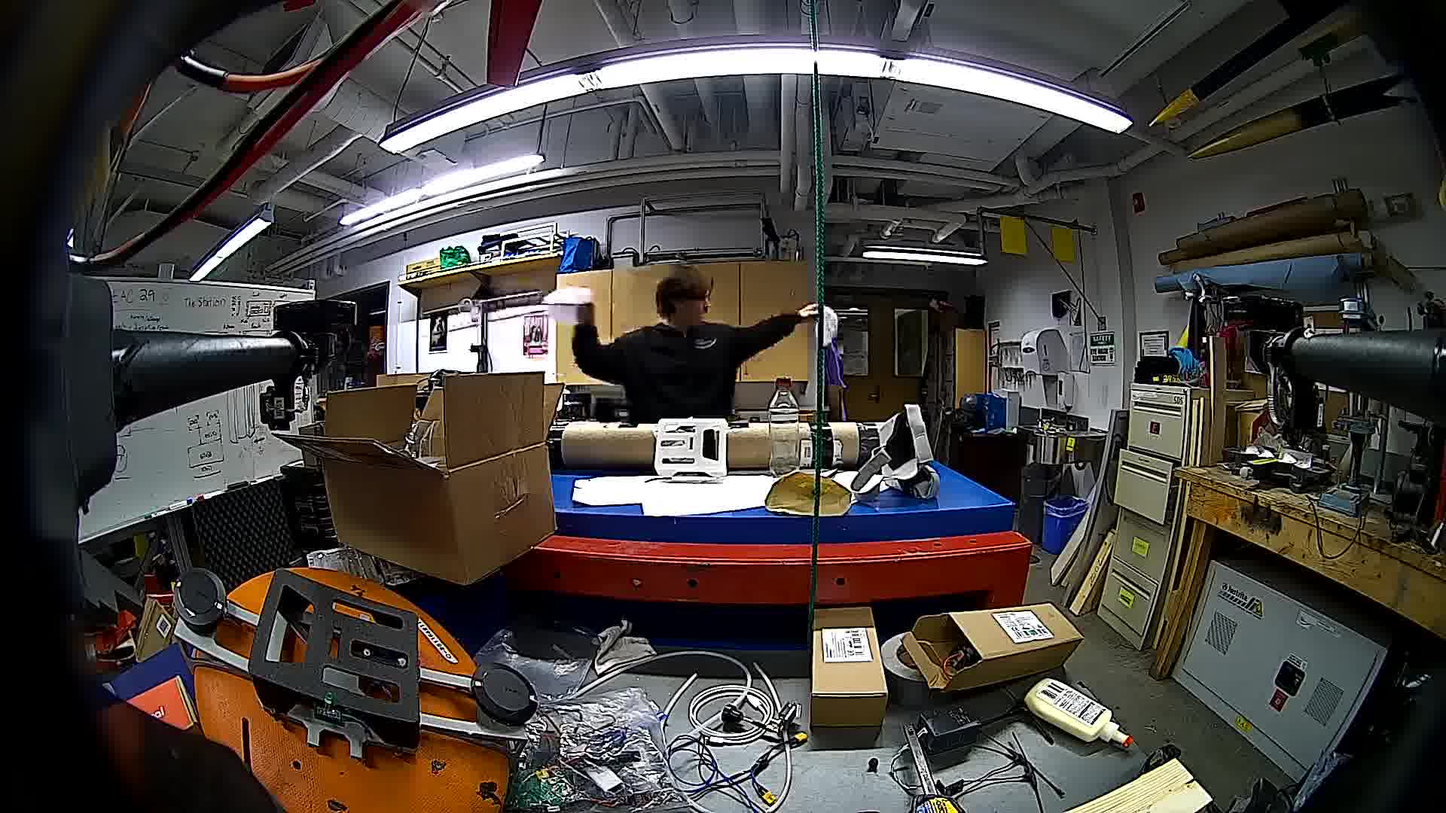Target: (539, 285, 593, 318), (811, 300, 838, 345)
